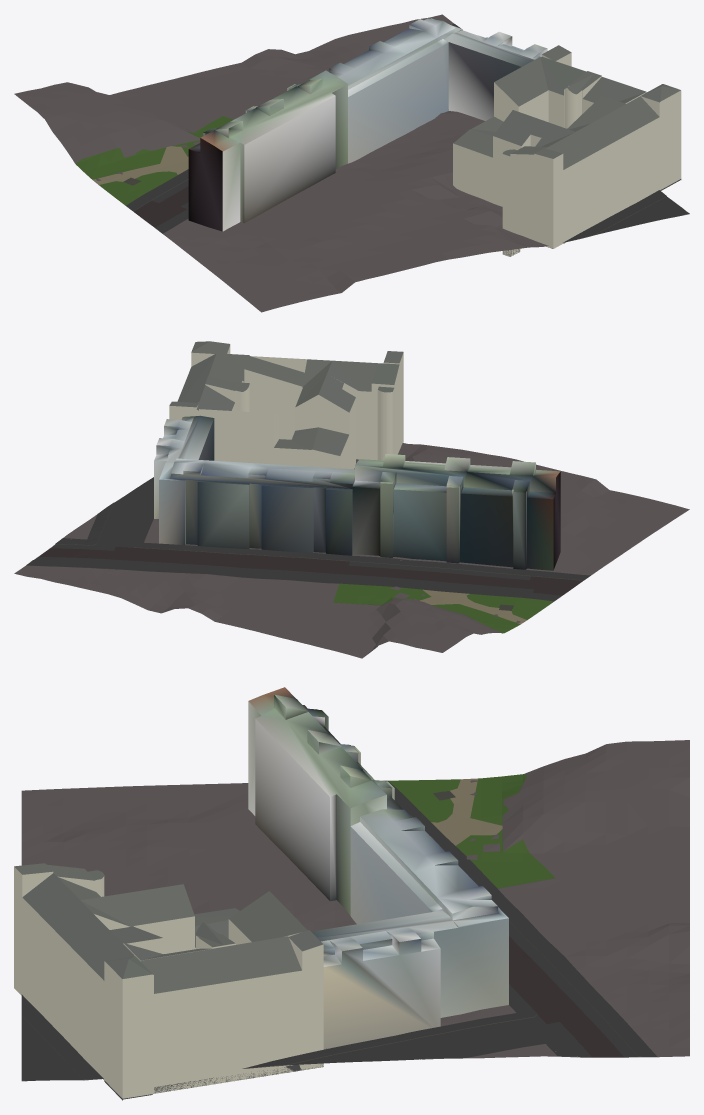
3 views of the same model, one above another, from view 1: azimuth 30°, elevation 25°; view 2: azimuth 150°, elevation 25°; view 3: azimuth 270°, elevation 25° (orthographic). The views are drawn at different scales.
Visible parts, largest first — view 1: c_m01_p09; view 2: c_m01_p09; view 3: c_m01_p09.
Part boxes in pixels (bbox=[...]): c_m01_p09: bbox=[14, 14, 689, 312]; c_m01_p09: bbox=[14, 341, 689, 658]; c_m01_p09: bbox=[14, 687, 689, 1100].
Size of the model in its own units: 137 by 36.75 by 129.
